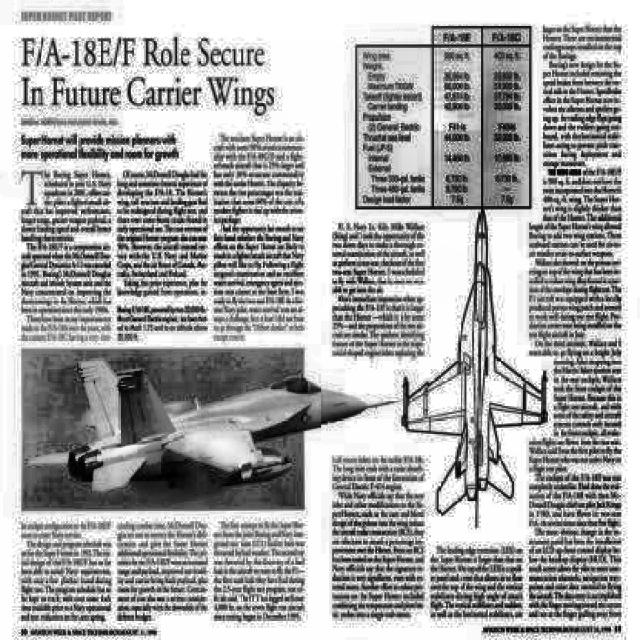F18: (28, 357, 400, 492)
